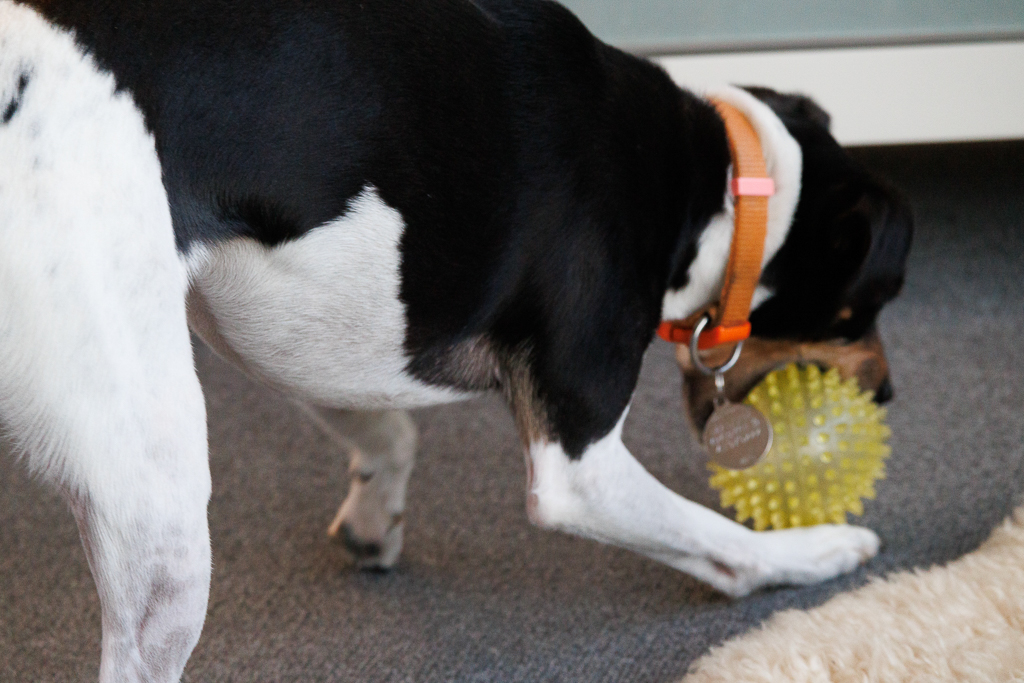Dog: (0, 0, 926, 683)
